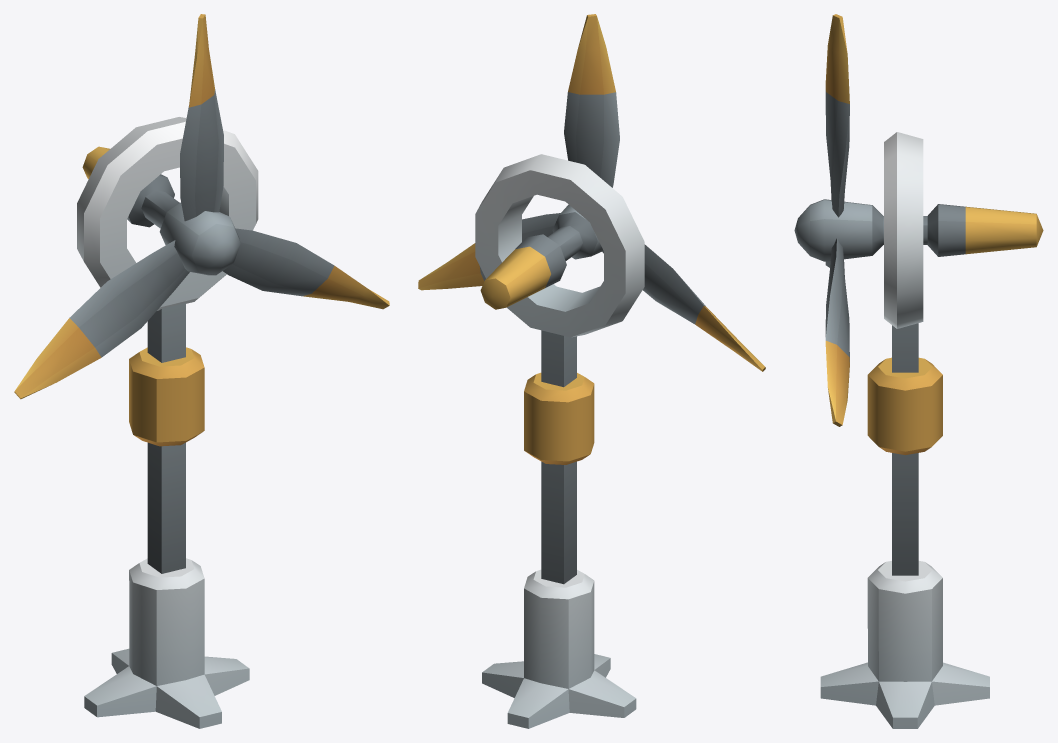
The model's file is windturbine_tall.glb.
3 views of the same model, side by side, from view 1: azimuth 30°, elevation 25°; view 2: azimuth 150°, elevation 25°; view 3: azimuth 270°, elevation 25° (orthographic). The views are drawn at different scales.
Visible parts, largest first — view 1: windturbine_tall_fan, windturbine_tall; view 2: windturbine_tall_fan, windturbine_tall; view 3: windturbine_tall, windturbine_tall_fan.
Boxes of the visible parts, x1,y1,x2,y2 form: windturbine_tall_fan: [14, 14, 389, 399]; windturbine_tall: [84, 303, 249, 728]; windturbine_tall_fan: [418, 14, 765, 371]; windturbine_tall: [482, 330, 636, 728]; windturbine_tall: [820, 323, 989, 728]; windturbine_tall_fan: [794, 14, 1043, 426].
Bounding box in the file's own units: 1.67 × 3 × 0.9998.
Materials: 1 (1 with a texture image).
